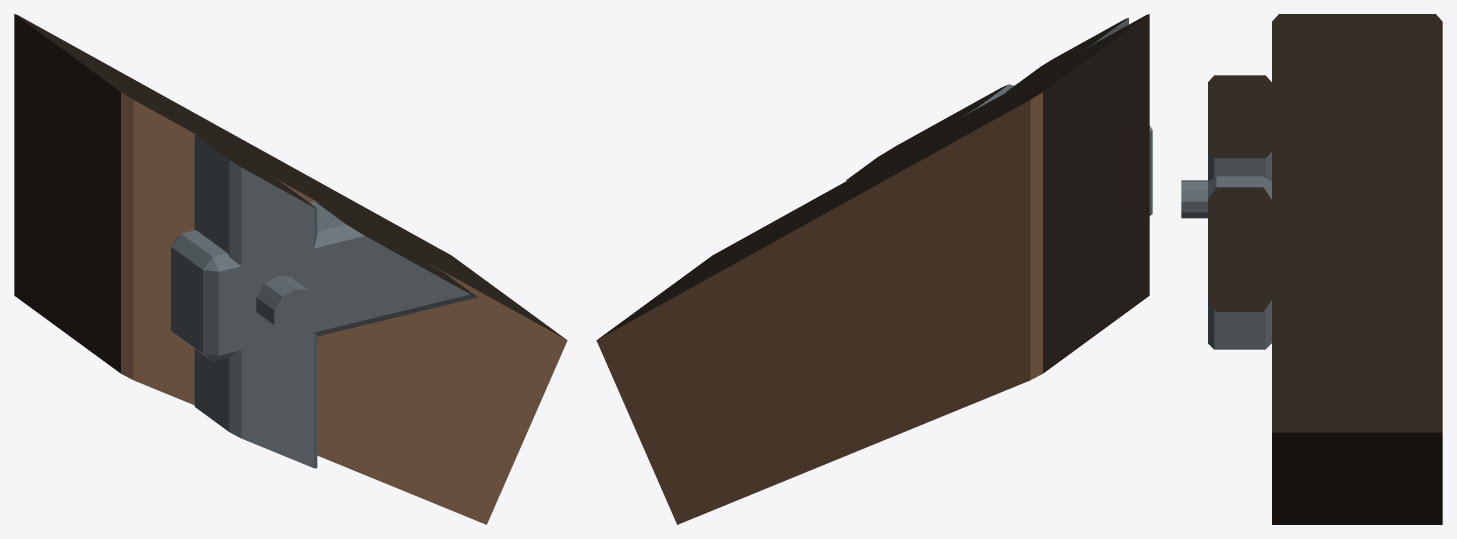
Rendered from SM_DoorShard_02_45.fbx.
3 renders of one model, left to right at view 1: azimuth 30°, elevation 25°; view 2: azimuth 150°, elevation 25°; view 3: azimuth 270°, elevation 25°, orthographic. The views are drawn at different scales.
Visible parts, largest first — view 1: SM_DoorShard_02_45; view 2: SM_DoorShard_02_45; view 3: SM_DoorShard_02_45.
Part boxes in pixels (x1=…): SM_DoorShard_02_45: x1=14, y1=14, x2=567, y2=524; SM_DoorShard_02_45: x1=596, y1=14, x2=1152, y2=524; SM_DoorShard_02_45: x1=1181, y1=14, x2=1442, y2=524.
Bounding box in the file's own units: 35.2 × 24.5 × 39.4.
